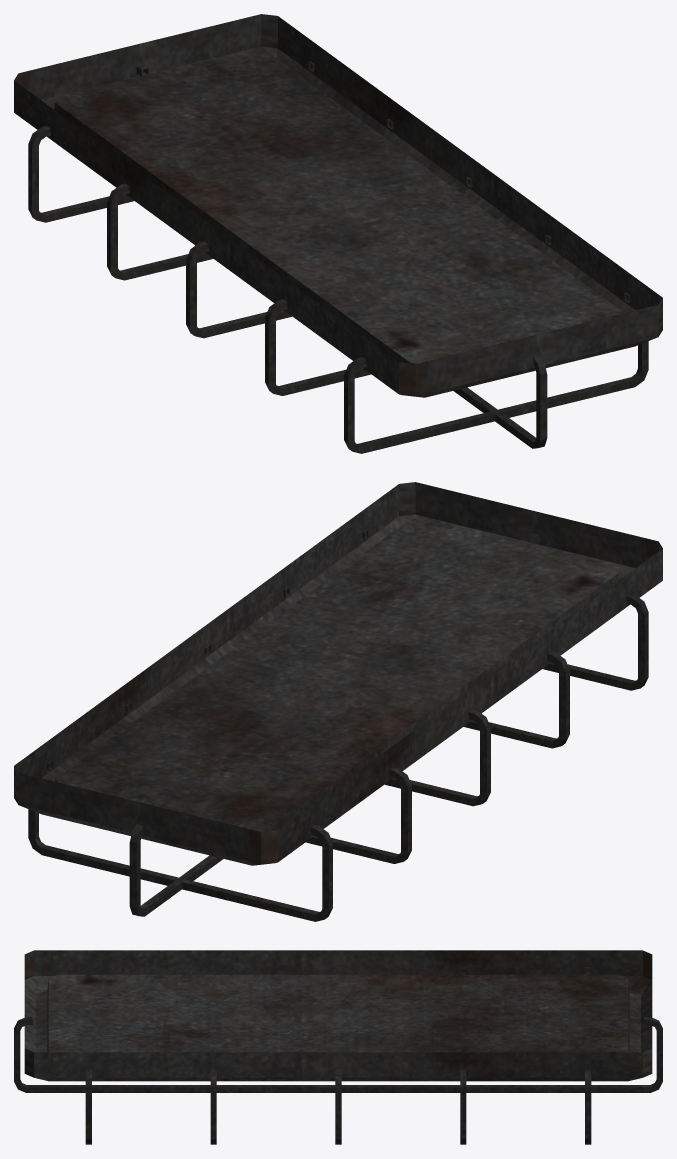
File: ceiling_lamp_2_off.obj
The picture shows the model from 3 angles, top to bottom: view 1: azimuth 30°, elevation 25°; view 2: azimuth 150°, elevation 25°; view 3: azimuth 270°, elevation 25°; orthographic projection. The views are drawn at different scales.
Visible parts, largest first — view 1: ceiling_lamp_2_off, ceiling_lamp_2_off_protector; view 2: ceiling_lamp_2_off, ceiling_lamp_2_off_protector; view 3: ceiling_lamp_2_off, ceiling_lamp_2_off_protector.
Boxes of the visible parts, left/top/right/bottom form: ceiling_lamp_2_off: left=14, top=14, right=662, bottom=397; ceiling_lamp_2_off_protector: left=28, top=61, right=648, bottom=453; ceiling_lamp_2_off: left=14, top=482, right=662, bottom=865; ceiling_lamp_2_off_protector: left=28, top=529, right=648, bottom=921; ceiling_lamp_2_off: left=24, top=950, right=652, bottom=1081; ceiling_lamp_2_off_protector: left=14, top=967, right=662, bottom=1144.
Size of the model in its own units: 0.44 by 0.16 by 1.04.
